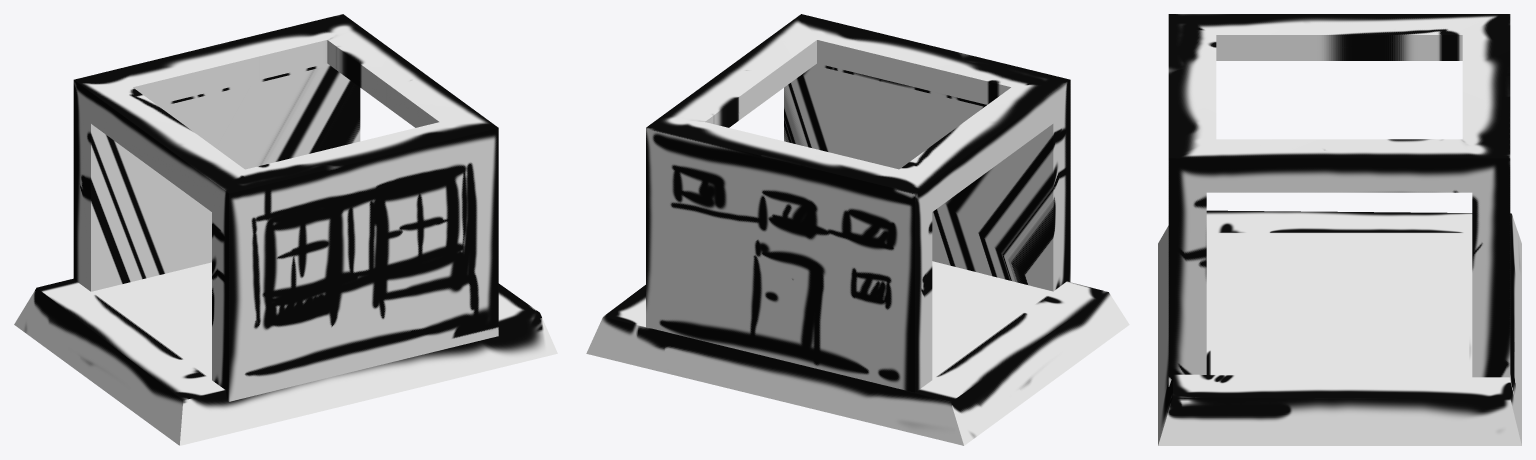
Rendered from Haus mit Loch.fbx.
3 renders of one model, left to right at view 1: azimuth 30°, elevation 25°; view 2: azimuth 150°, elevation 25°; view 3: azimuth 270°, elevation 25°, orthographic. The views are drawn at different scales.
Parts seen in each view (by area): view 1: Cube.001, Cube.003; view 2: Cube.001, Cube.003; view 3: Cube.003, Cube.001.
Boxes of the visible parts, x1,y1,x2,y2 form: Cube.001: (73, 14, 498, 401); Cube.003: (14, 262, 557, 445); Cube.001: (646, 14, 1070, 392); Cube.003: (586, 261, 1129, 445); Cube.003: (1158, 210, 1521, 445); Cube.001: (1168, 14, 1510, 386).
Size of the model in its own units: 281 by 167 by 213.
